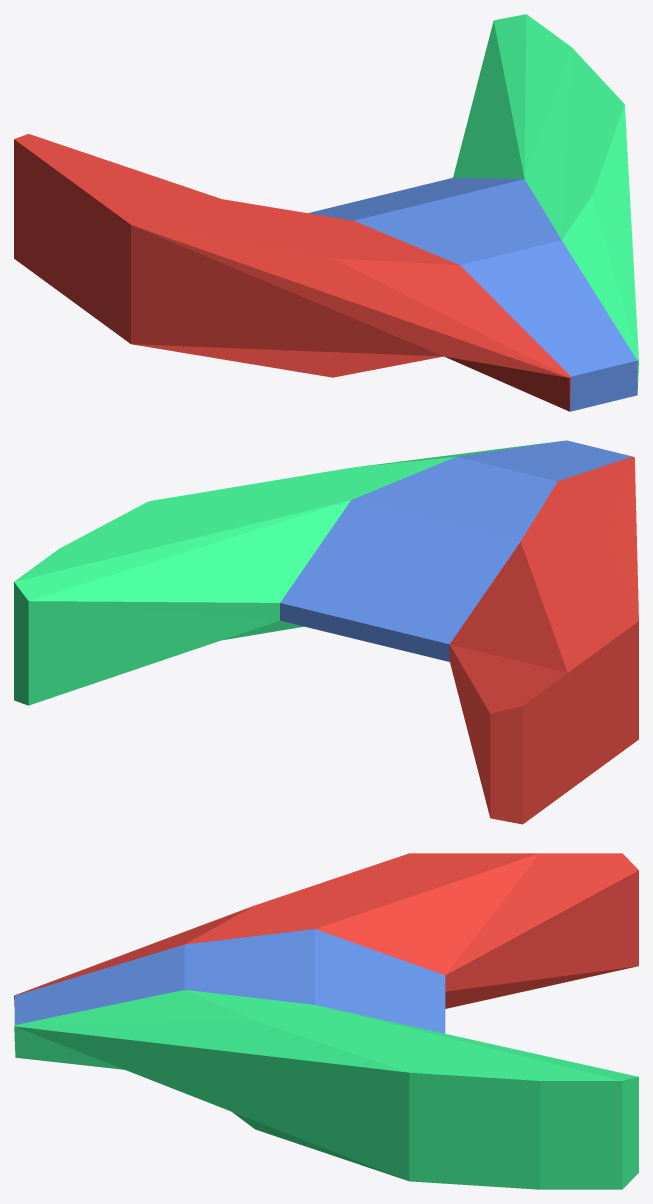
The model's file is player.obj.
3 views of the same model, one above another, from view 1: azimuth 30°, elevation 25°; view 2: azimuth 150°, elevation 25°; view 3: azimuth 270°, elevation 25° (orthographic). The views are drawn at different scales.
Visible parts, largest first — view 1: Cube; view 2: Cube; view 3: Cube.
Boxes of the visible parts, left/top/right/bottom form: Cube: left=14, top=14, right=638, bottom=411; Cube: left=14, top=440, right=638, bottom=824; Cube: left=14, top=853, right=638, bottom=1189.
Bounding box in the file's own units: 4.13 × 0.922 × 4.79.
1 material, 1 textured.
